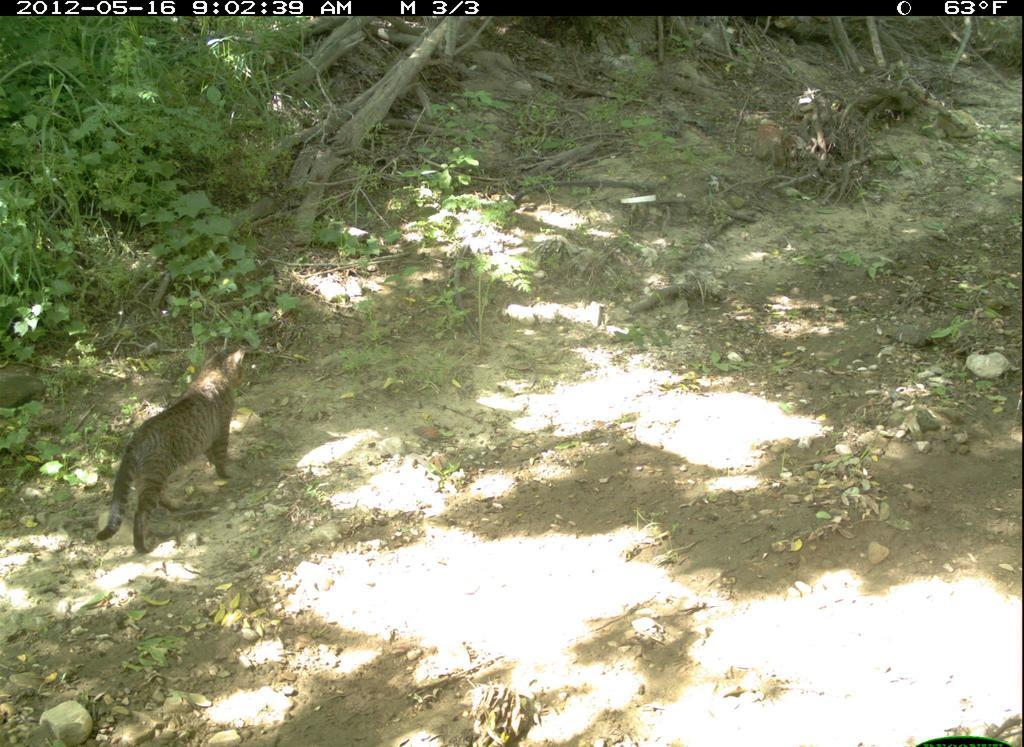cat: (94, 344, 260, 561)
